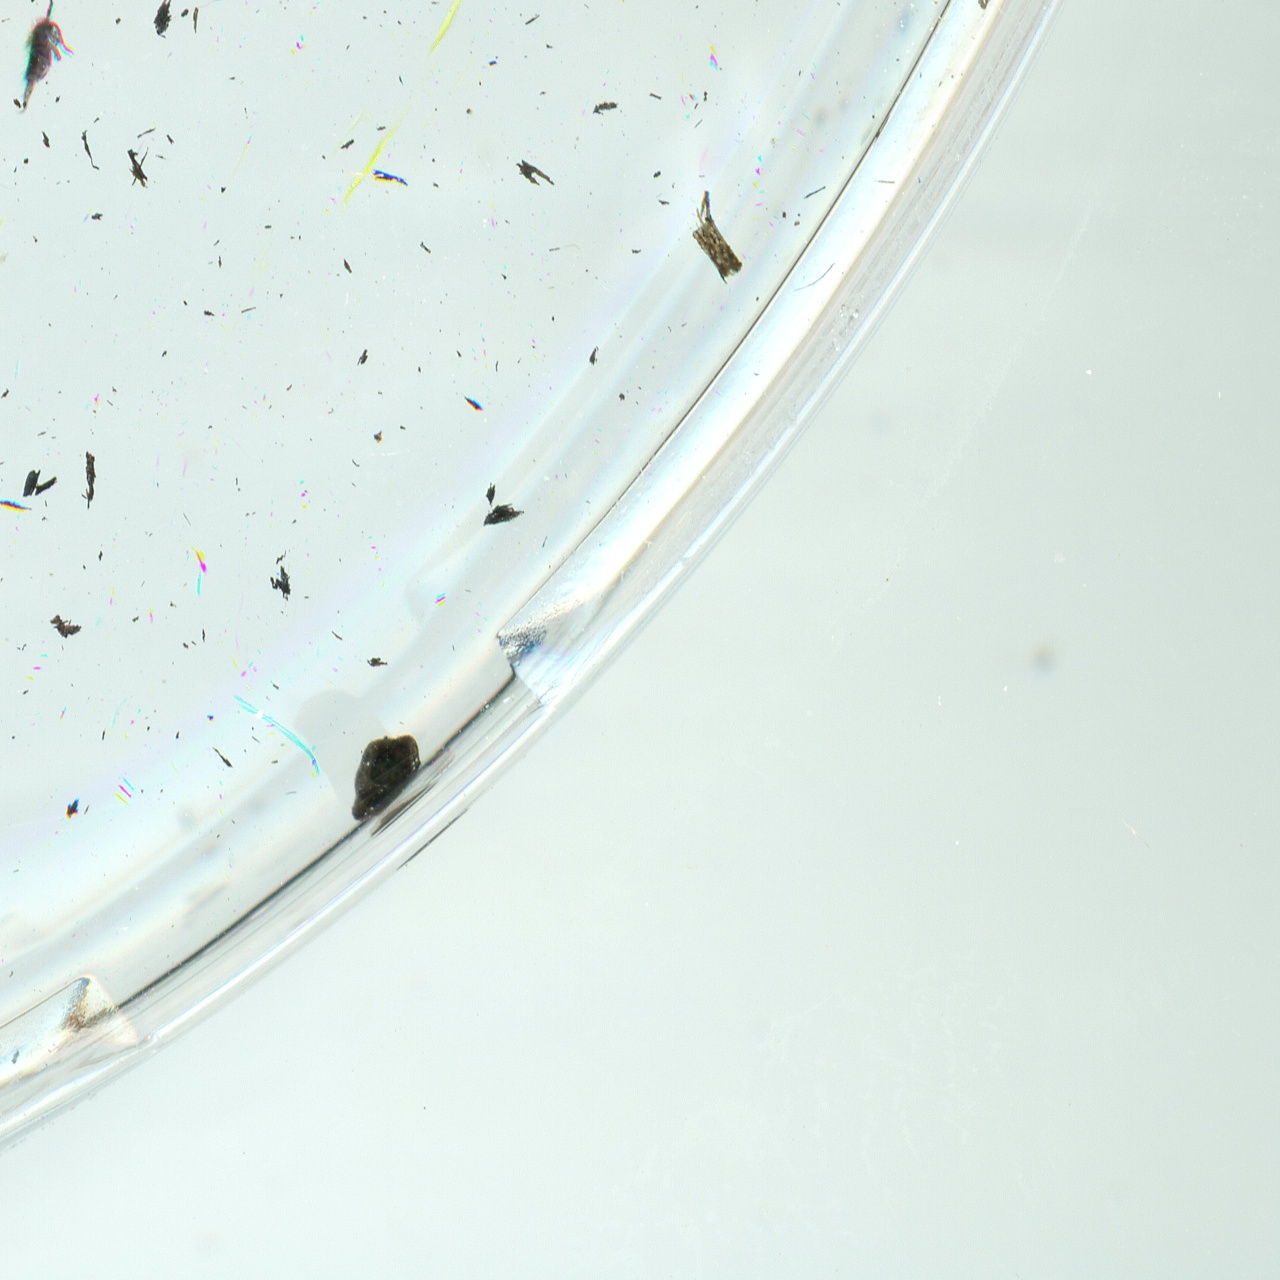arthropod: (8, 0, 88, 123)
